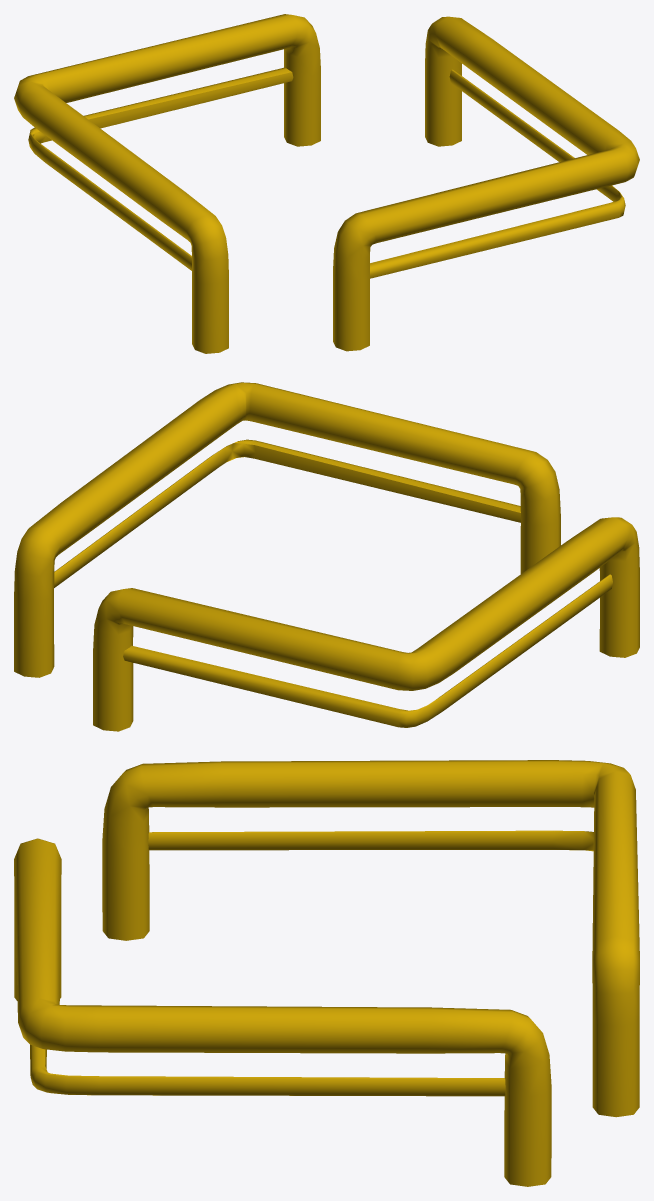
Rendered from blocked_node.glb.
3 views of the same model, one above another, from view 1: azimuth 30°, elevation 25°; view 2: azimuth 150°, elevation 25°; view 3: azimuth 270°, elevation 25° (orthographic). The views are drawn at different scales.
Parts seen in each view (by area): view 1: Rail_Corner, Rail_Corner.001; view 2: Rail_Corner, Rail_Corner.001; view 3: Rail_Corner, Rail_Corner.001.
Boxes of the visible parts, x1=… form: Rail_Corner: x1=14, y1=14, x2=320, y2=353; Rail_Corner.001: x1=333, y1=16, x2=639, y2=351; Rail_Corner: x1=93, y1=517, x2=639, y2=731; Rail_Corner.001: x1=14, y1=382, x2=560, y2=677; Rail_Corner: x1=102, y1=760, x2=639, y2=1117; Rail_Corner.001: x1=14, y1=838, x2=551, y2=1186.
Size of the model in its own units: 0.7985 by 0.2368 by 0.7936.
